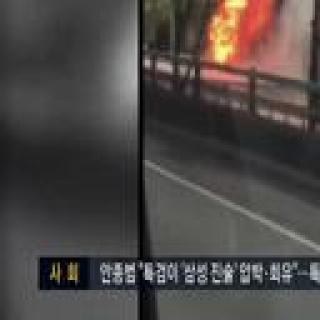fire: (202, 0, 278, 74)
